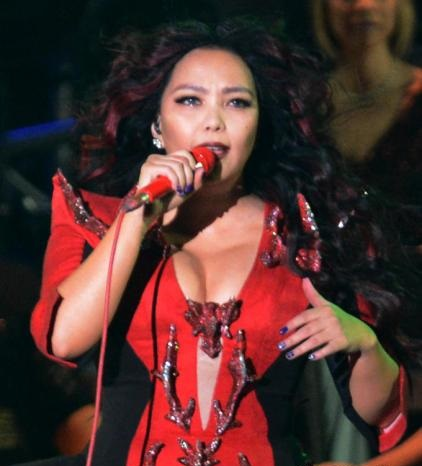face: (160, 47, 258, 186)
